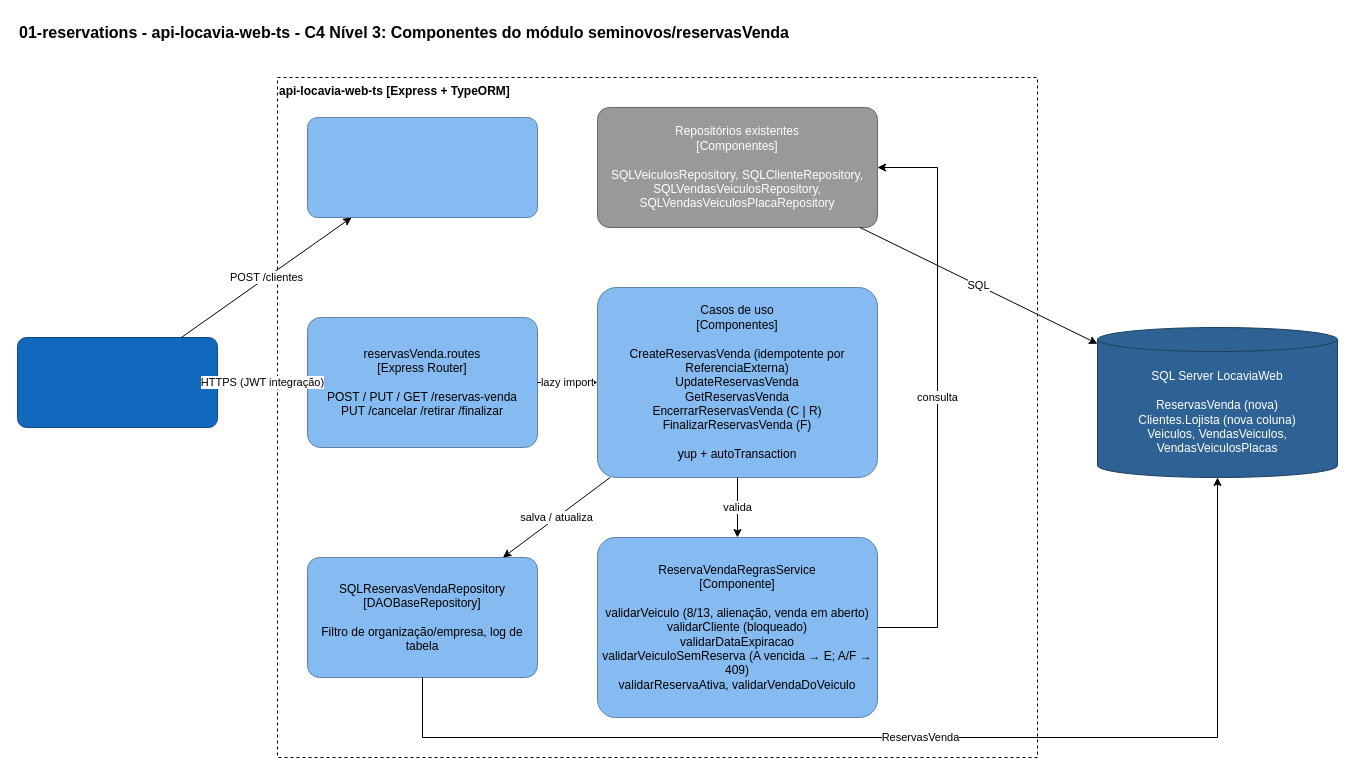
This 1355x775 diagram has some shape labels left out. Here are the shapes that lost their labels. From the top down, the box of each, then its label:
(306, 116, 538, 218): CreateCliente (existente) [Componente] Aceita Lojista = S
(16, 336, 218, 428): api-locaviaweb-car-inventory [Sistema - Integração]
